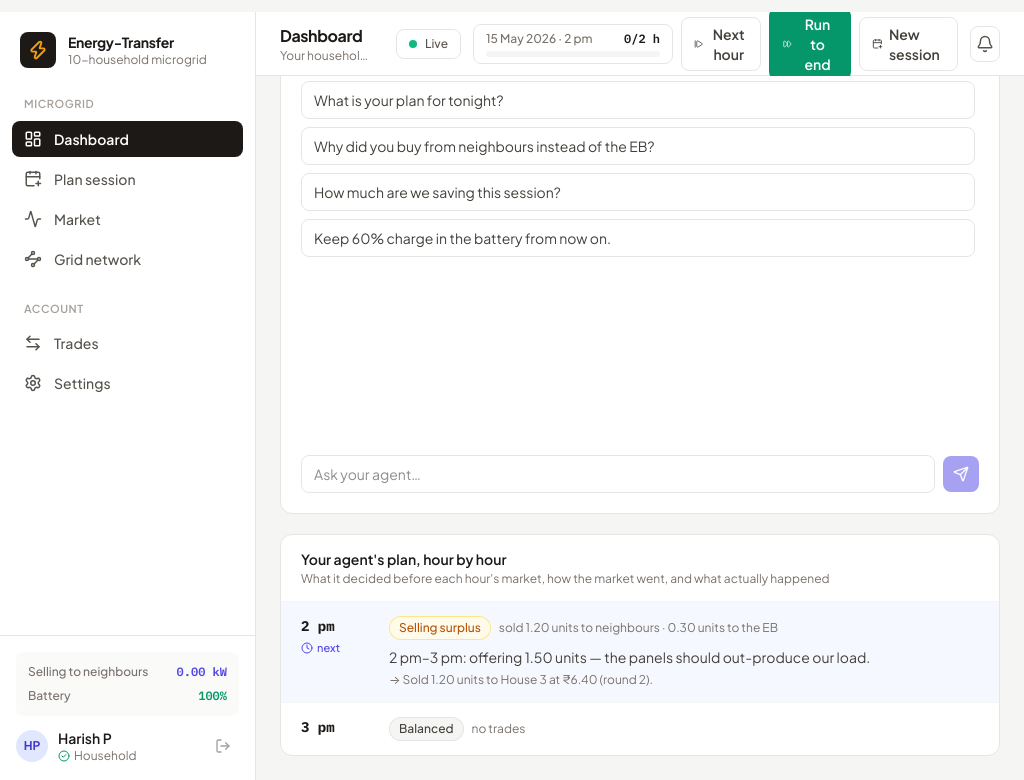
agent chat › sends a question and shows the reply
The width and height of the screenshot is (1024, 780).
(page scrolled)
Type "Why did you sell at 2 pm?" into the field named "Message your agent" at (618, 474), box [301,454,935,492]
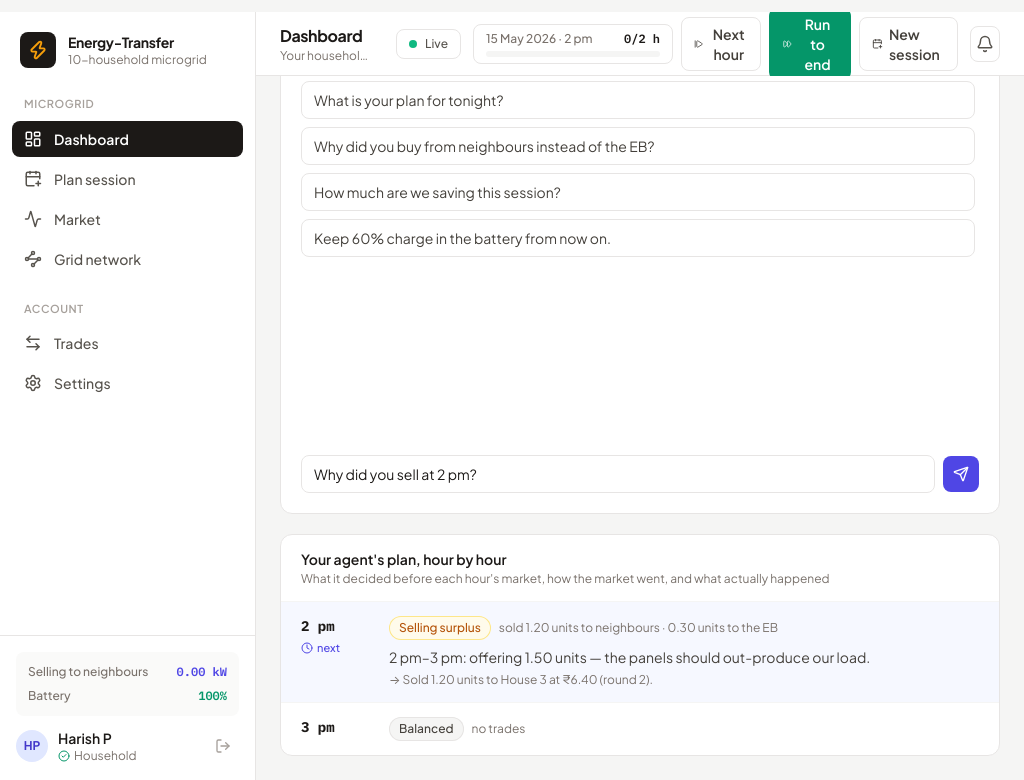
Click the button named "Send" at (961, 474), box [943,456,979,492]
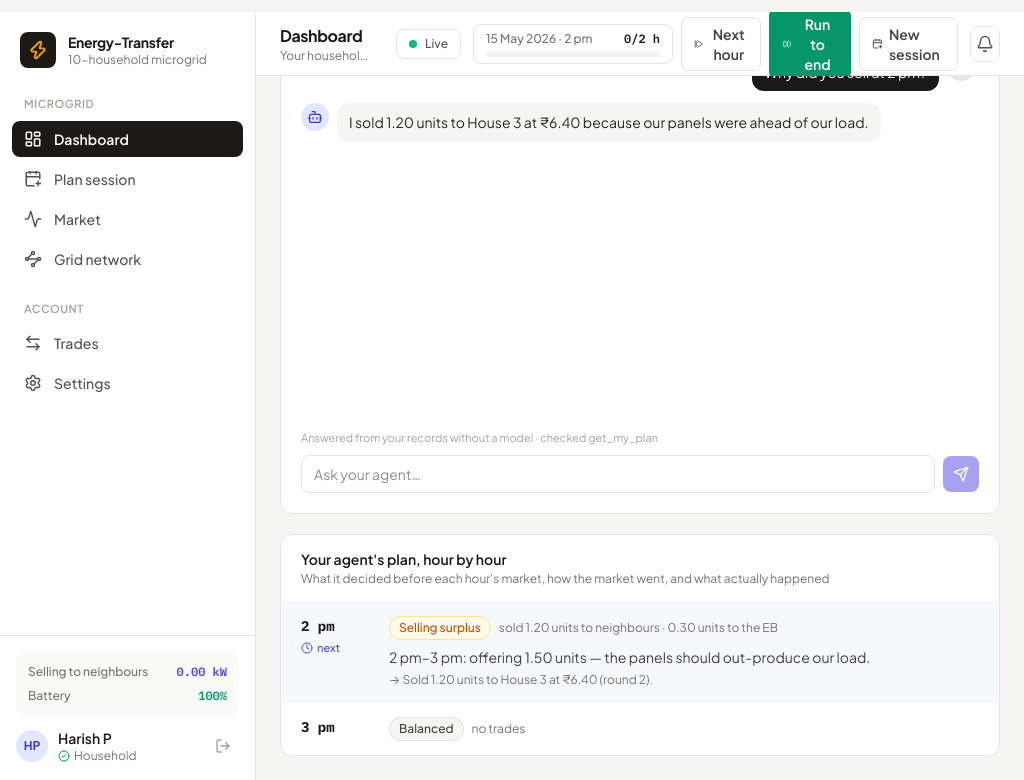
Check: the text "because our panels were ahead of our load" is shown, box [349,113,869,131]
Check: the text "Answered from your records without a model" is shown, box [301,431,658,444]
